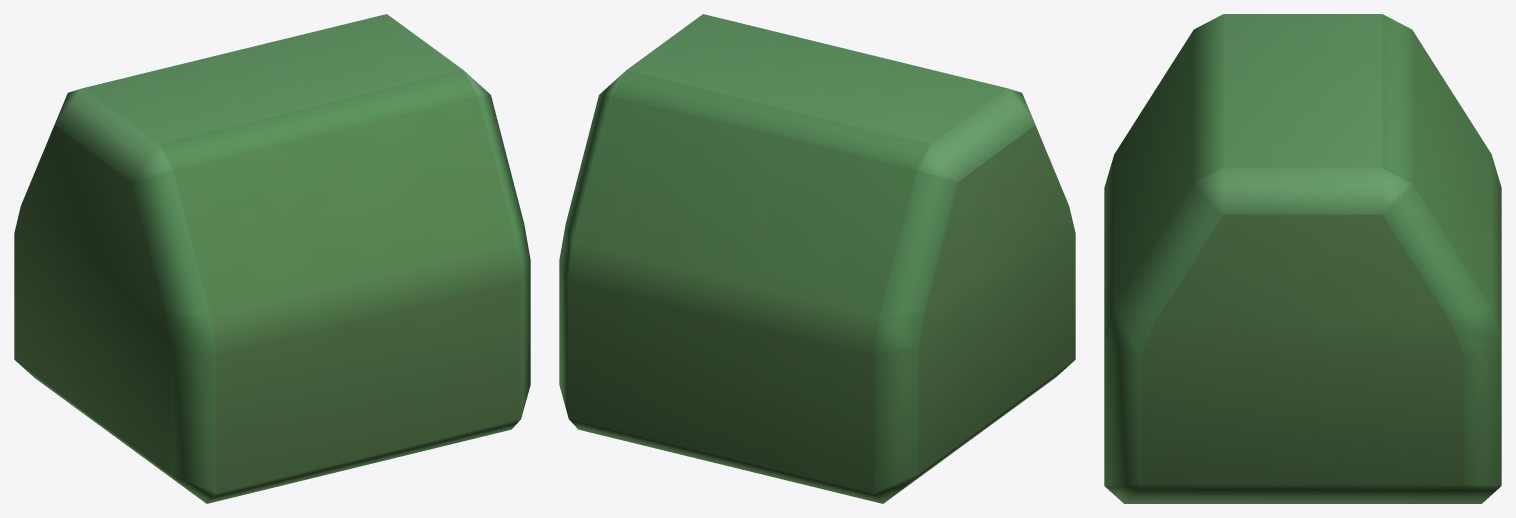
Rendered from border_straight_half.fbx.
The picture shows the model from 3 angles, left to right: view 1: azimuth 30°, elevation 25°; view 2: azimuth 150°, elevation 25°; view 3: azimuth 270°, elevation 25°; orthographic projection. The views are drawn at different scales.
Visible parts, largest first — view 1: border_straight_half; view 2: border_straight_half; view 3: border_straight_half.
Part boxes in pixels (<box>): border_straight_half: <box>14,14,530,503</box>; border_straight_half: <box>559,14,1075,503</box>; border_straight_half: <box>1104,14,1501,503</box>.
Bounding box in the file's own units: 54.14 × 46.65 × 50.
